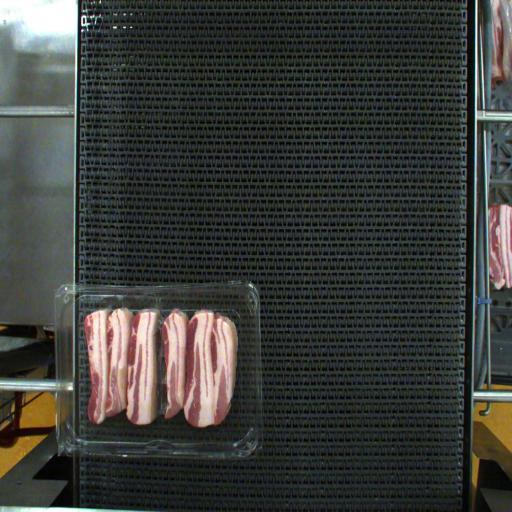packaging-error: (124, 292, 181, 423)
